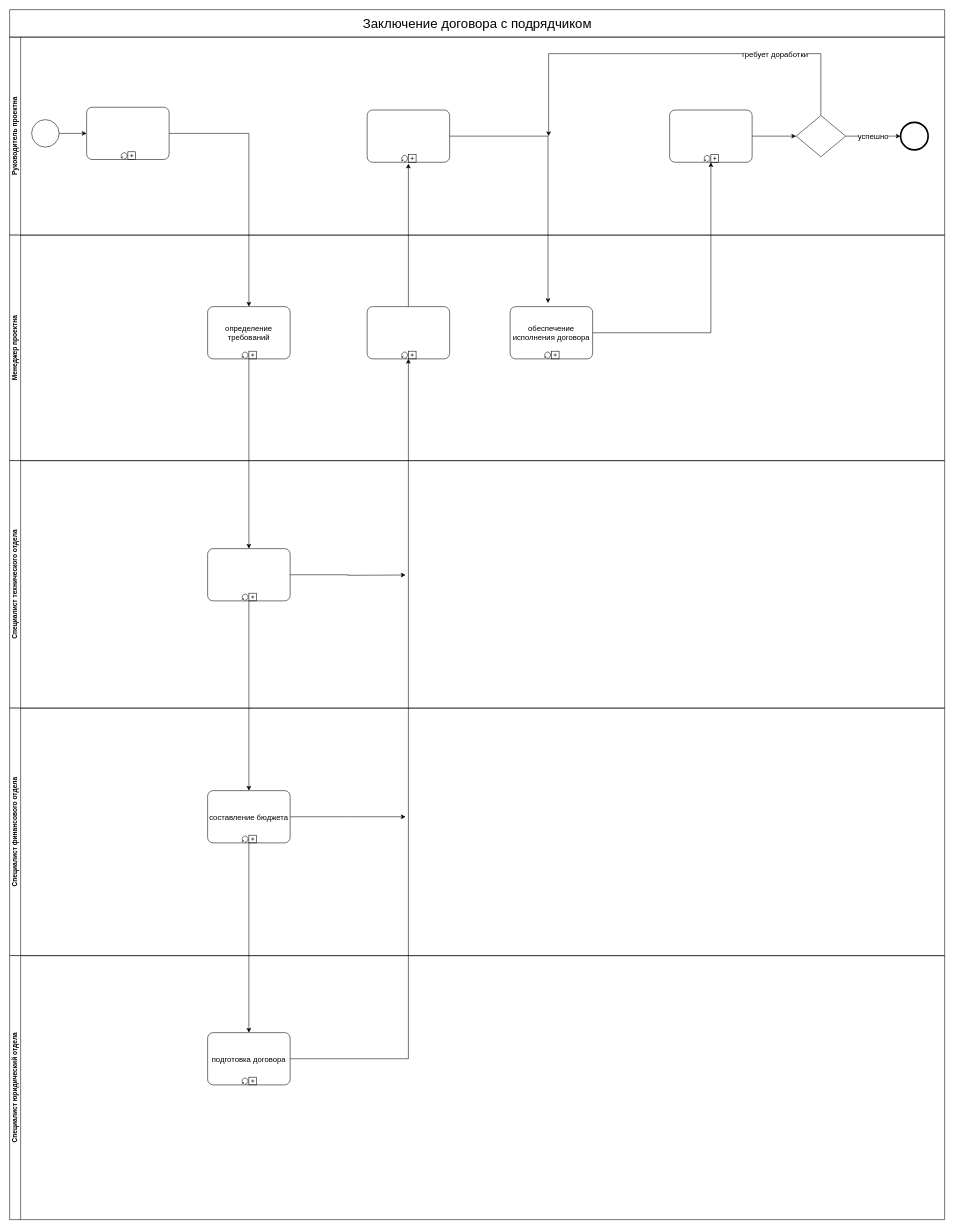
The diagram is 954 pixels wide and 1229 high, and some of its shapes have lost their labels. The shapes that lost their labels are listed below. From the top down, each one's centre as x and y in pixels, then its label:
At point (127, 133): "поиск подрядчика".
At point (408, 135): "подписание соглашения о сотрудничестве".
At point (710, 135): "принятие и оценка".
At point (408, 332): "подготовка документации".
At point (248, 574): "составление технического задания".
